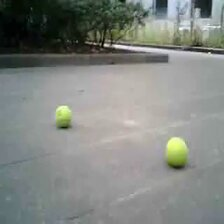tennis: (165, 137, 188, 165), (55, 106, 71, 128)
